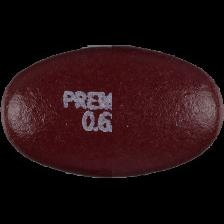49999-109: (0, 0, 224, 224)
